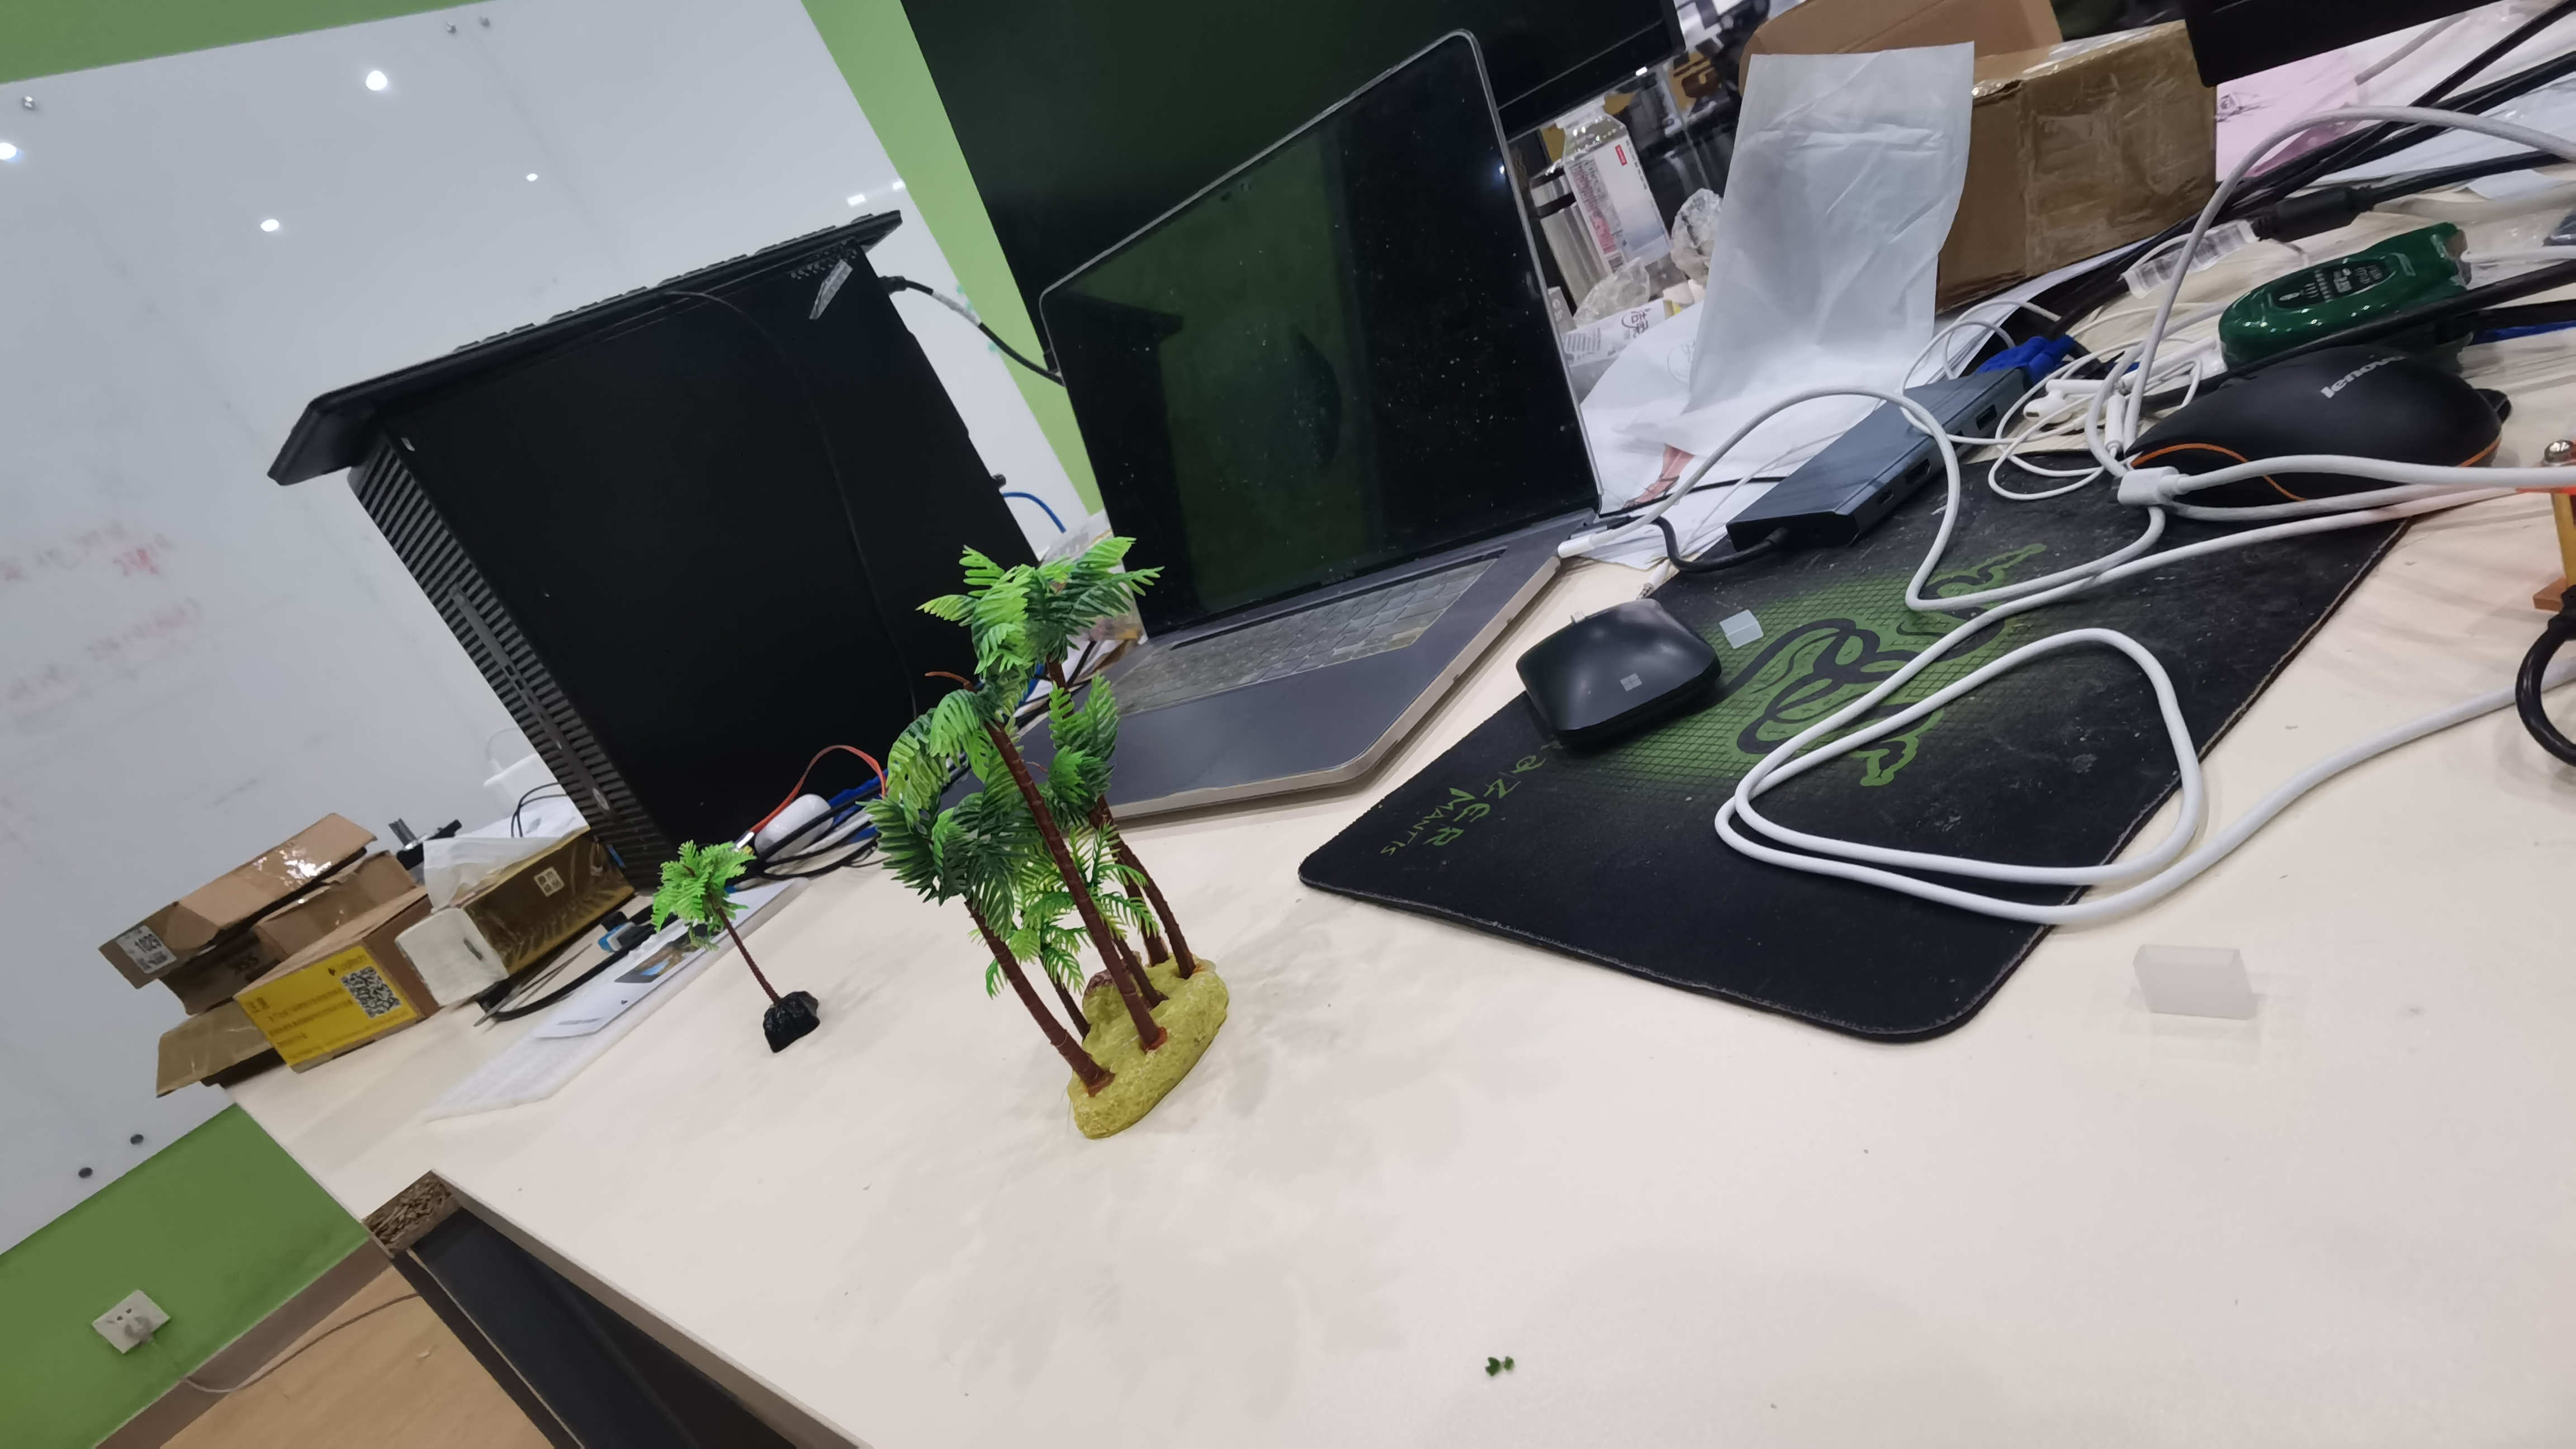corn: (870, 543, 1238, 1143), (640, 817, 830, 1054)
